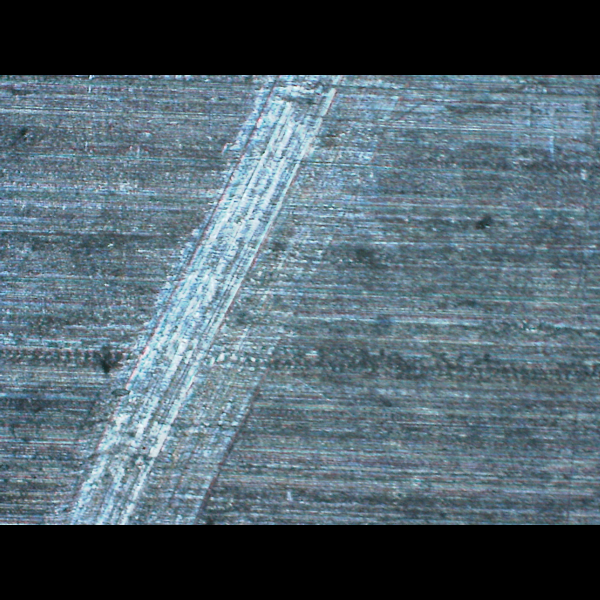d: (43, 240, 258, 525), (189, 76, 403, 290)
